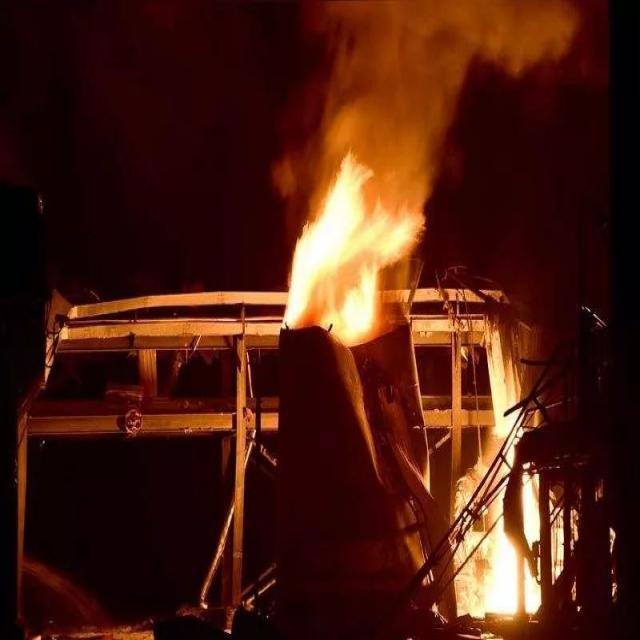fire: (283, 151, 426, 344)
